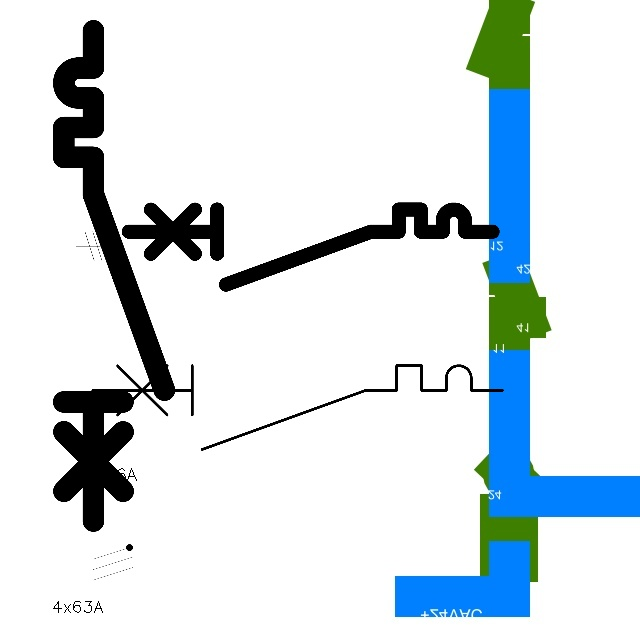interruptor_termomagnetico: (51, 18, 177, 534), (82, 355, 513, 460), (119, 200, 502, 293)
